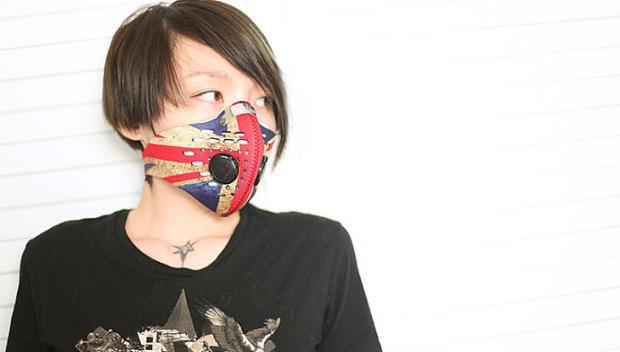OK: (145, 64, 292, 211)
